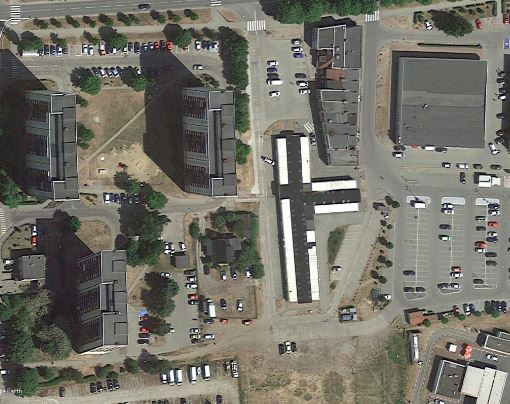block of flats: (271, 129, 360, 310), (309, 16, 367, 170), (17, 84, 85, 203), (175, 82, 241, 202), (68, 246, 132, 356), (13, 252, 48, 283)
family house: (203, 233, 245, 267)
shopping_center: (393, 54, 493, 153)
